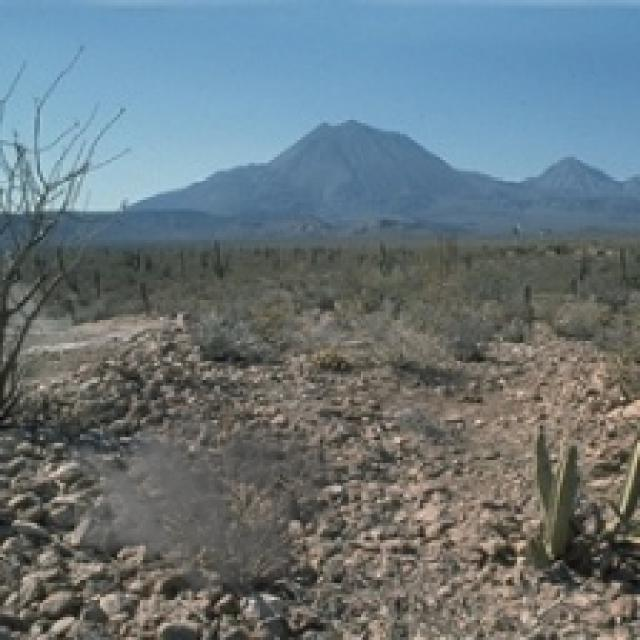smoke: (74, 383, 340, 606)
